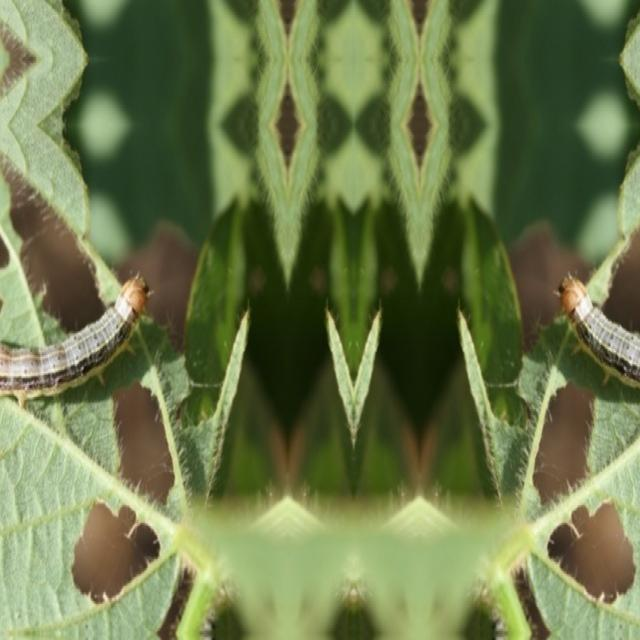armyworm: (0, 268, 154, 406), (552, 268, 639, 396)
